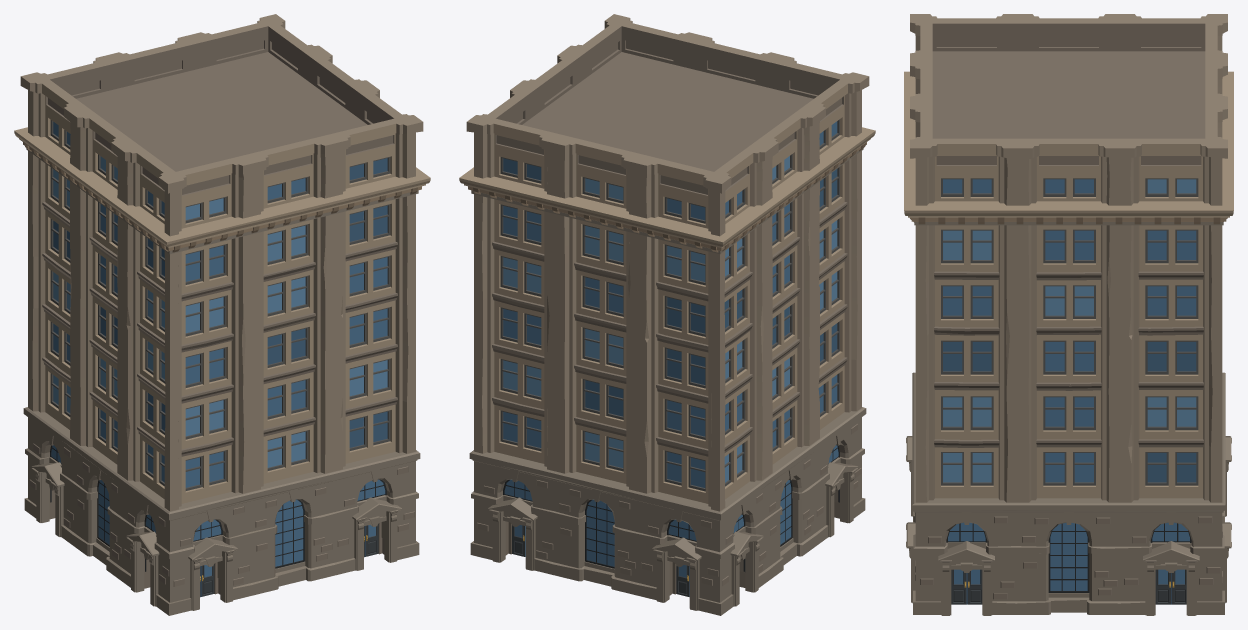
Rendered from old_office.glb.
3 renders of one model, left to right at view 1: azimuth 30°, elevation 25°; view 2: azimuth 150°, elevation 25°; view 3: azimuth 270°, elevation 25°, orthographic. The views are drawn at different scales.
Visible parts, largest first — view 1: SM_Bld_OfficeOld_Large_01; view 2: SM_Bld_OfficeOld_Large_01; view 3: SM_Bld_OfficeOld_Large_01.
Boxes of the visible parts, left/top/right/bottom form: SM_Bld_OfficeOld_Large_01: left=14, top=14, right=430, bottom=615; SM_Bld_OfficeOld_Large_01: left=459, top=14, right=875, bottom=615; SM_Bld_OfficeOld_Large_01: left=904, top=14, right=1233, bottom=615.
Size of the model in its own units: 16.09 by 25.25 by 16.12.
Materials: 1 (1 with a texture image).
